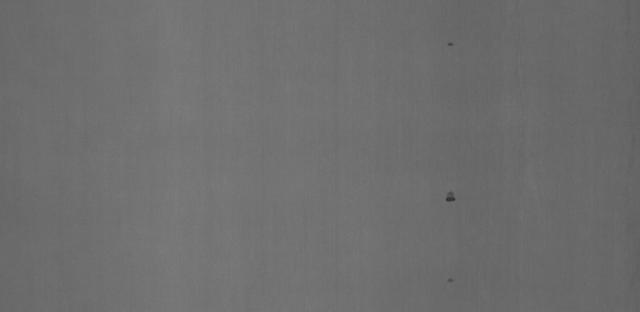inclusion: (444, 190, 458, 207), (444, 275, 454, 286), (445, 41, 454, 49)
